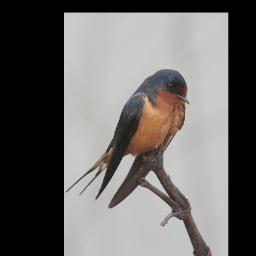Swallow: (67, 67, 191, 209)
